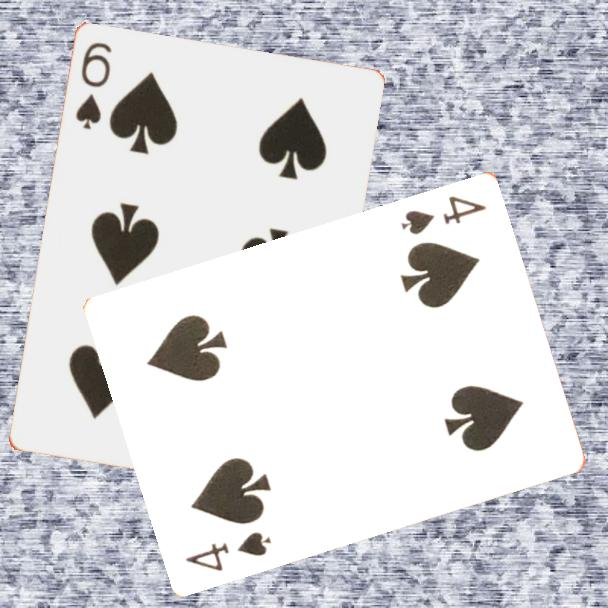s04: (182, 527, 274, 574), (397, 191, 490, 237)
s06: (72, 39, 115, 133)
